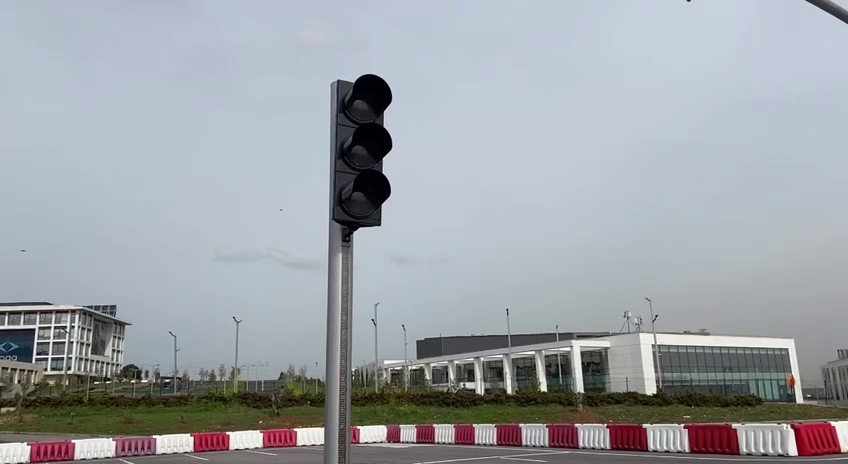trafficLight: (324, 70, 396, 237)
